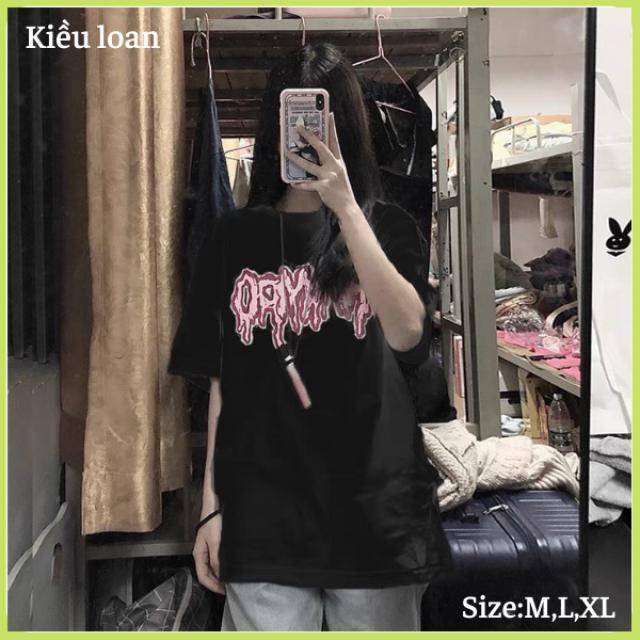Shirt: (170, 199, 463, 592)
